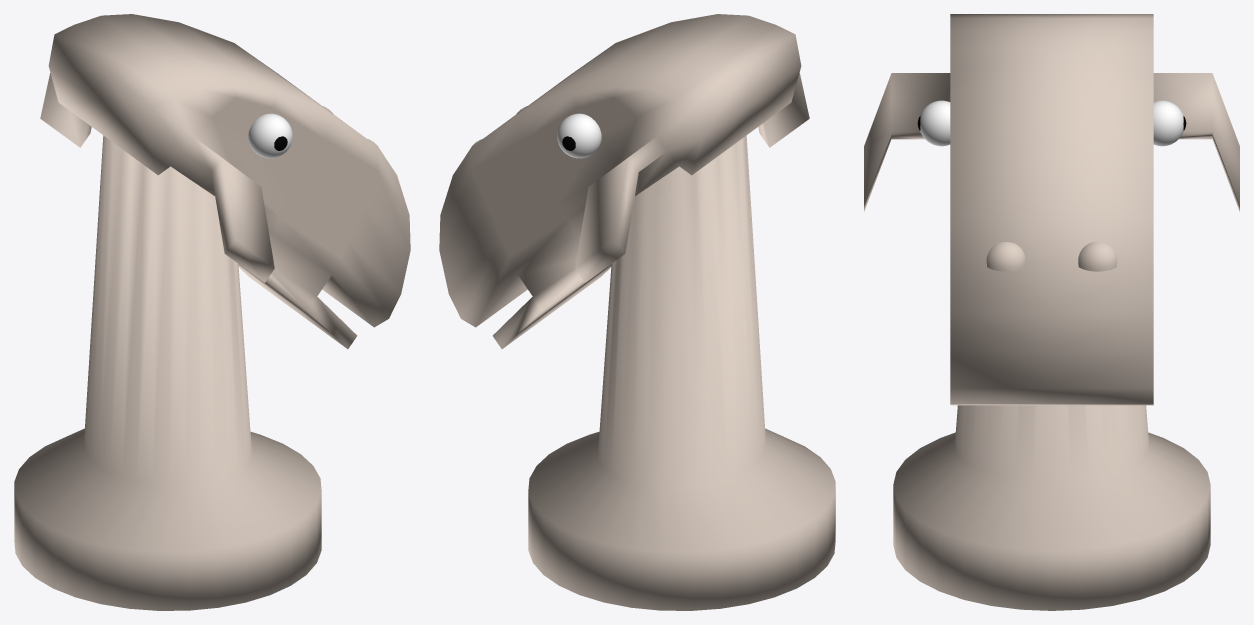
Rendered from WhiteKnight.fbx.
3 views of the same model, side by side, from view 1: azimuth 30°, elevation 25°; view 2: azimuth 150°, elevation 25°; view 3: azimuth 270°, elevation 25° (orthographic).
Visible parts, largest first — view 1: WhiteKnight; view 2: WhiteKnight; view 3: WhiteKnight.
Boxes of the visible parts, x1,y1,x2,y2 form: WhiteKnight: (14,14,410,610); WhiteKnight: (439,14,835,610); WhiteKnight: (864,14,1239,610).
Bounding box in the file's own units: 105 × 153 × 103.
